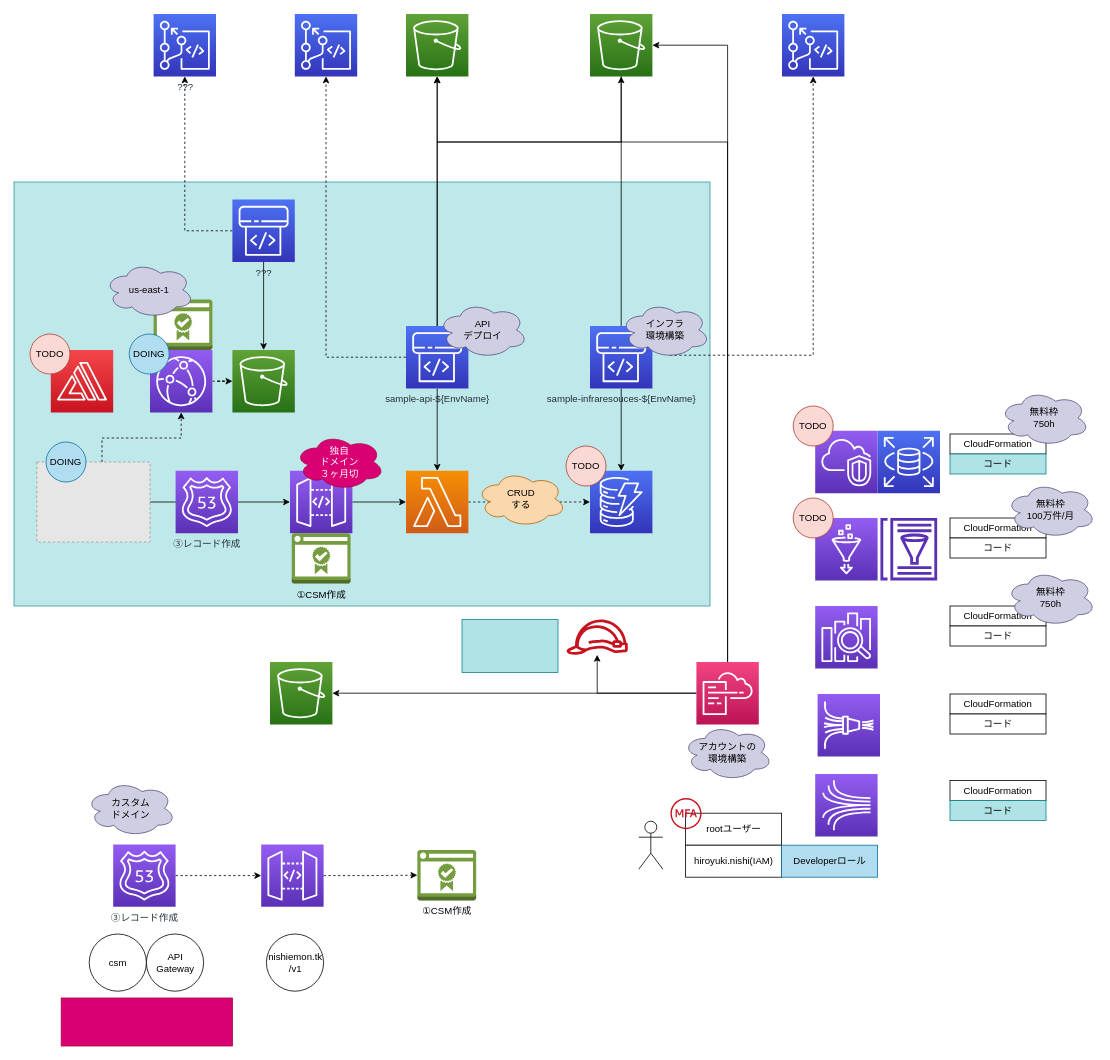
Some shapes in this 1110 by 1060 pixel diagram are drawn without their labels. Grey dashed boxes stand in for pictures. Each missing label, with the centre of its shape:
"Actor" goes at point (650, 844).
"artifacts-${EnvName}" goes at point (620, 44).
"cloudfront-access- logs-${EnvName}" goes at point (300, 692).
"codepipline codebuild codecommit(＊)" goes at point (509, 645).
"ElasticSeach" goes at point (846, 636).
"Glue" goes at point (846, 548).
"infra-resources" goes at point (812, 44).
"RDS" goes at point (908, 461).
"sam-deployment-${EnvName}" goes at point (436, 44).
"sample-api" goes at point (325, 44).
"sample-device" goes at point (436, 501).
"sample.nishiemon.tk" goes at point (263, 380).
"VPC" goes at point (846, 461).
"②カスタムドメイン作成" goes at point (292, 875).
"上記2つのレコードセット が作られるので、この2つ を削除しないと HostZone は削除できなくなる！" goes at point (146, 1021).
